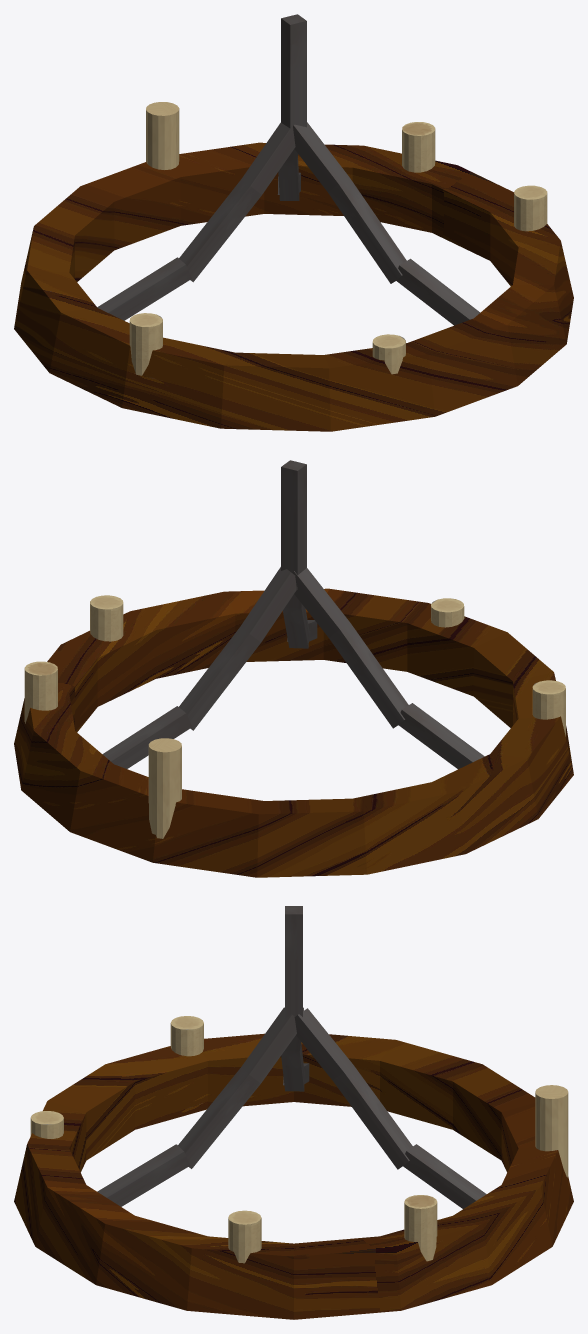
The model's file is chandelier.glb.
The picture shows the model from 3 angles, top to bottom: view 1: azimuth 30°, elevation 25°; view 2: azimuth 150°, elevation 25°; view 3: azimuth 270°, elevation 25°; orthographic projection.
Visible parts, largest first — view 1: Circle, swieczki, Cube.002, Cube.006, Cube, Cube.005, Cube.001, Cube.003; view 2: Circle, swieczki, Cube.003, Cube.006, Cube, Cube.005, Cube.004, Cube.002; view 3: Circle, swieczki, Cube.003, Cube.002, Cube.001, Cube.004, Cube, Cube.006.
Part boxes in pixels (bbox=[...]): Circle: bbox=[14, 142, 573, 431]; swieczki: bbox=[129, 102, 547, 375]; Cube.002: bbox=[293, 122, 406, 283]; Cube.006: bbox=[179, 122, 295, 282]; Cube: bbox=[281, 14, 306, 127]; Cube.005: bbox=[97, 257, 191, 320]; Cube.001: bbox=[396, 258, 480, 325]; Cube.003: bbox=[278, 149, 299, 200]; Circle: bbox=[14, 588, 573, 877]; swieczki: bbox=[24, 595, 565, 838]; Cube.003: bbox=[179, 567, 296, 730]; Cube.006: bbox=[292, 568, 408, 728]; Cube: bbox=[281, 460, 306, 589]; Cube.005: bbox=[398, 703, 484, 769]; Cube.004: bbox=[102, 706, 191, 768]; Cube.002: bbox=[283, 594, 309, 648]; Circle: bbox=[14, 1033, 573, 1319]; swieczki: bbox=[30, 1016, 568, 1263]; Cube.003: bbox=[294, 1008, 412, 1169]; Cube.002: bbox=[178, 1007, 296, 1168]; Cube.001: bbox=[97, 1144, 190, 1206]; Cube.004: bbox=[403, 1144, 486, 1208]; Cube: bbox=[285, 906, 302, 1019]; Cube.006: bbox=[281, 1007, 304, 1091].
Bounding box in the file's own units: 4.13 × 2.37 × 4.13.
Materials: 3 (3 with a texture image).
